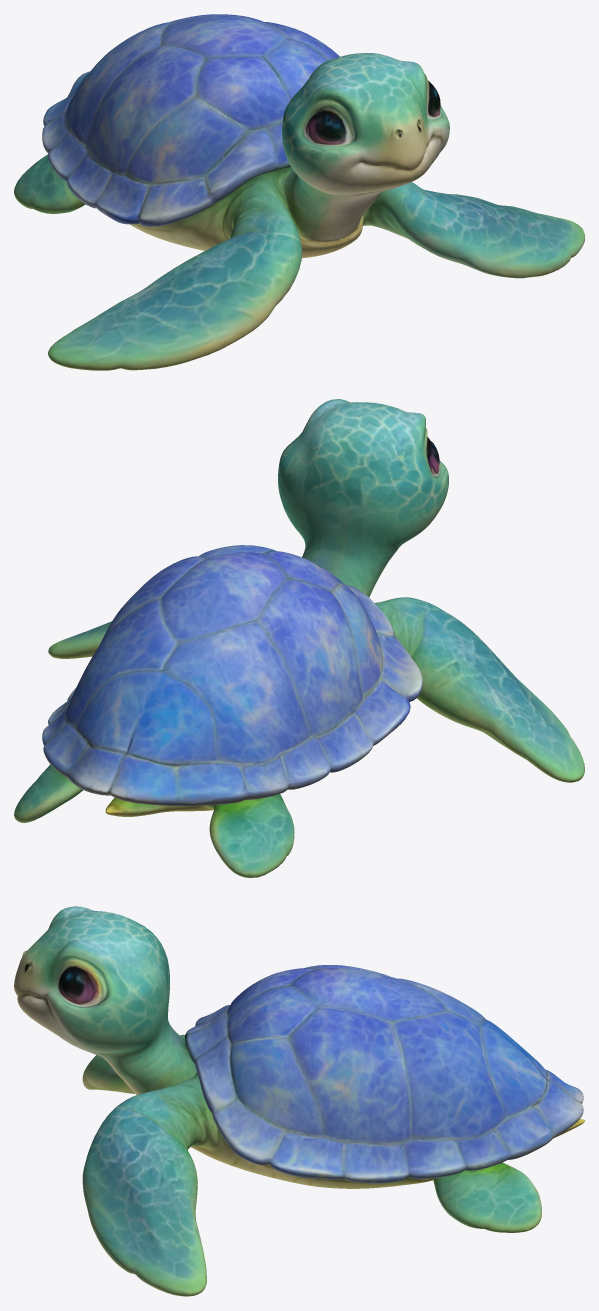
File: shelly-polished-geom.glb
The picture shows the model from 3 angles, top to bottom: view 1: azimuth 30°, elevation 25°; view 2: azimuth 150°, elevation 25°; view 3: azimuth 270°, elevation 25°; orthographic projection. The views are drawn at different scales.
Parts seen in each view (by area): view 1: geometry_0; view 2: geometry_0; view 3: geometry_0.
Boxes of the visible parts, x1=… form: geometry_0: x1=14, y1=14, x2=584, y2=370; geometry_0: x1=14, y1=399, x2=584, y2=877; geometry_0: x1=14, y1=906, x2=584, y2=1296.
Size of the model in its own units: 3.17 by 1.55 by 3.14.
Materials: 1 (1 with a texture image).
